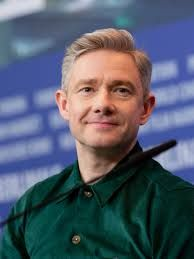no-mask: (56, 43, 157, 154)
